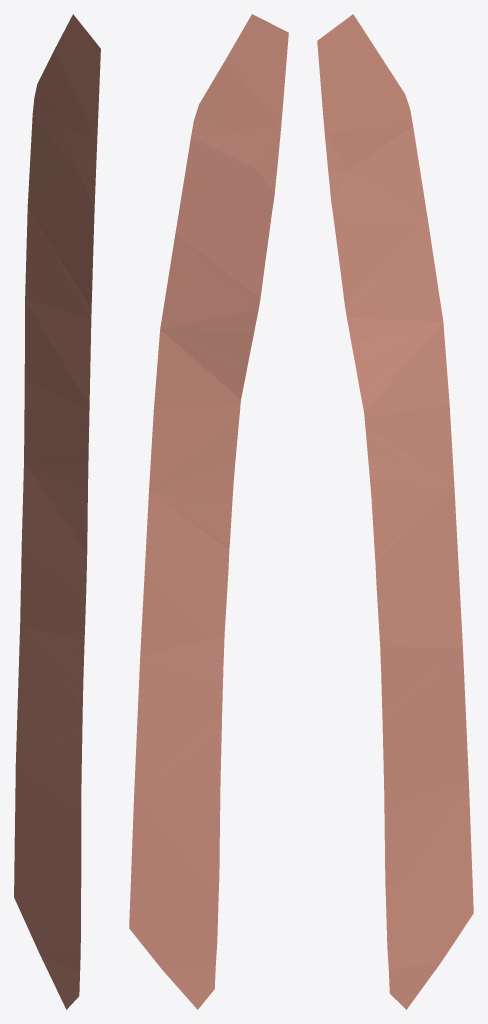
File: Fault_f16_50m_GGERFS_Predrill.gltf
The picture shows the model from 3 angles, left to right: view 1: azimuth 90°, elevation 25°; view 2: azimuth 150°, elevation 25°; view 3: azimuth 330°, elevation 25°; orthographic projection. The views are drawn at different scales.
Parts seen in each view (by area): view 1: FAULT_F16_50M_GGERFS_PREDRILL; view 2: FAULT_F16_50M_GGERFS_PREDRILL; view 3: FAULT_F16_50M_GGERFS_PREDRILL.
Part boxes in pixels (x1,y1,x2,y2): FAULT_F16_50M_GGERFS_PREDRILL: (14, 14, 100, 1009); FAULT_F16_50M_GGERFS_PREDRILL: (129, 14, 288, 1009); FAULT_F16_50M_GGERFS_PREDRILL: (317, 14, 473, 1009).
Bounding box in the file's own units: 90.5 × 744 × 57.44.
